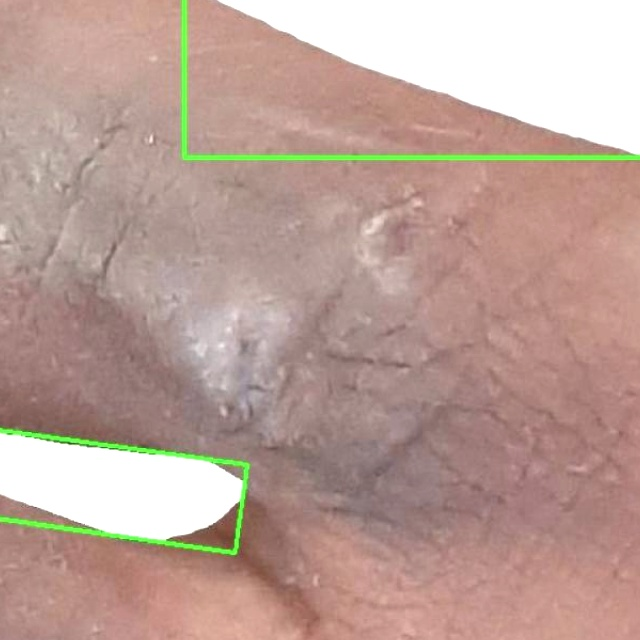Contact Dermatitis: (184, 0, 639, 157), (0, 429, 248, 553)
